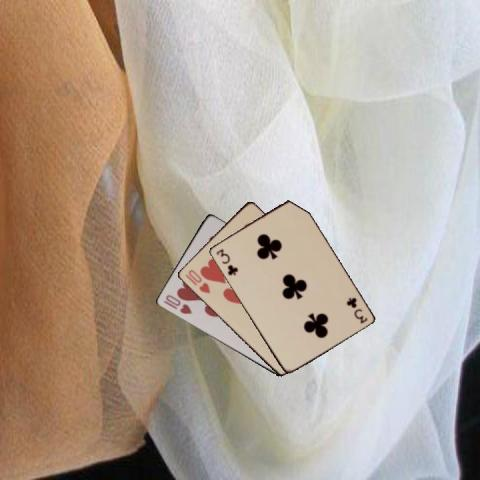10h: (182, 267, 211, 295), (160, 292, 193, 316)
3c: (214, 246, 240, 277), (343, 294, 369, 325)
